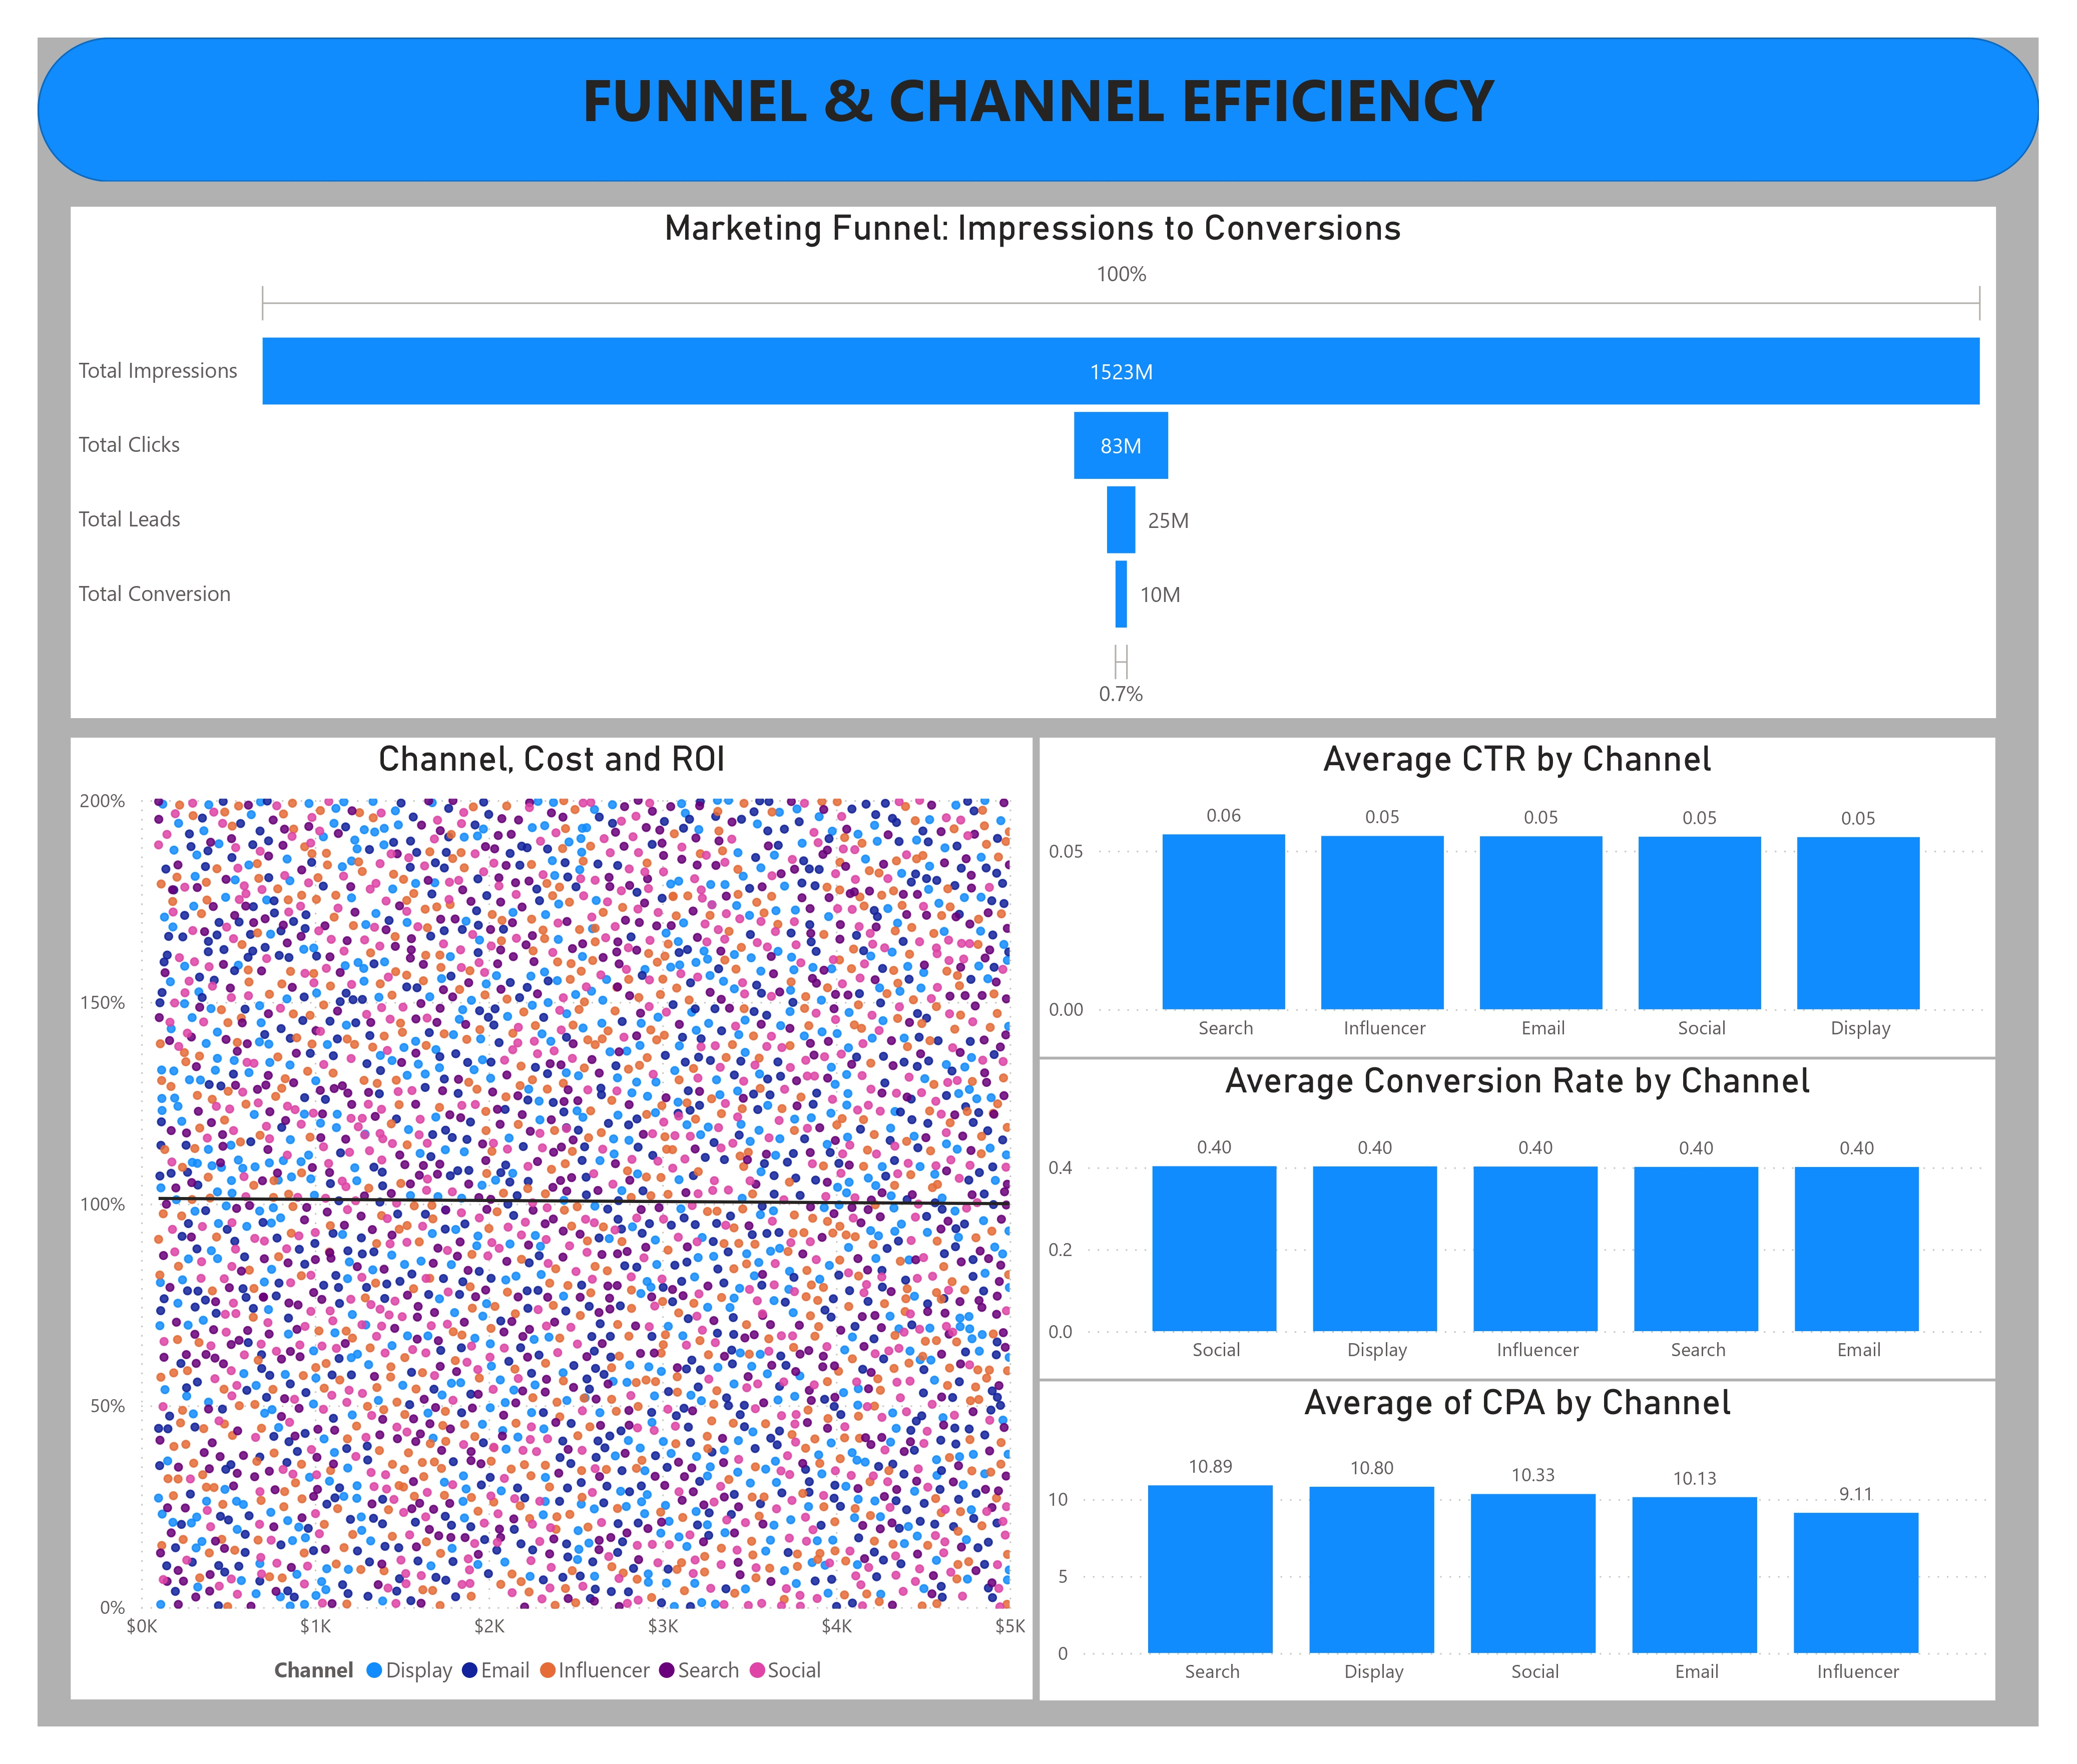

The dashboard page shown, as its layout file describes it:
{"tool":"powerbi","page":{"name":"Page 2","canvas":[1280,1080],"ordinal":1},"visuals":[{"type":"shape","box":[0,0,1280,92.4],"z":0},{"type":"clusteredColumnChart","title":"Average CTR by Channel","fields":{"Category":["Marketing Campaign Performance Clean.Channel"],"Y":["Avg(Marketing Campaign Performance Clean.CTR)"]},"box":[640.8,447.7,611.1,203.7],"z":1000},{"type":"clusteredColumnChart","title":"Average Conversion Rate by Channel","fields":{"Y":["Avg(Marketing Campaign Performance Clean.Conversion_Rate)"],"Category":["Marketing Campaign Performance Clean.Channel"]},"box":[640.8,653.5,611.1,203.7],"z":2000},{"type":"scatterChart","fields":{"X":["Marketing Campaign Performance Clean.Cost"],"Y":["Marketing Campaign Performance Clean.ROI"],"Series":["Marketing Campaign Performance Clean.Channel"]},"box":[21.2,447.7,615.3,615.3],"z":3000},{"type":"clusteredColumnChart","fields":{"Y":["Avg(Marketing Campaign Performance Clean.CPA)"],"Category":["Marketing Campaign Performance Clean.Channel"]},"box":[640.8,859.3,611.1,203.7],"z":4000},{"type":"funnel","title":"Marketing Funnel: Impressions to Conversions","fields":{"Y":["Marketing Campaign Performance Clean.Total Impressions","Marketing Campaign Performance Clean.Total Clicks","Marketing Campaign Performance Clean.Total Leads","Marketing Campaign Performance Clean.Total Conversion"]},"box":[21.2,108.2,1230.6,326.8],"z":5000},{"type":"textbox","box":[99.7,8.5,1080,78.5],"z":6001}]}

Visuals, with their boxes on the page's 1280x1080 design canvas (x1, y1, x2, y2). These are canvas units, not pixel positions in the 2077x1764 screenshot, which may show the page scaled, cropped or inside an application window:
shape: l=0, t=0, r=1280, b=92
"Average CTR by Channel" clusteredColumnChart: l=641, t=448, r=1252, b=651
"Average Conversion Rate by Channel" clusteredColumnChart: l=641, t=654, r=1252, b=857
scatterChart - Marketing Campaign Performance Clean.Cost x Marketing Campaign Performance Clean.ROI: l=21, t=448, r=636, b=1063
clusteredColumnChart - Avg(Marketing Campaign Performance Clean.CPA) x Marketing Campaign Performance Clean.Channel: l=641, t=859, r=1252, b=1063
"Marketing Funnel: Impressions to Conversions" funnel: l=21, t=108, r=1252, b=435
textbox: l=100, t=8, r=1180, b=87
